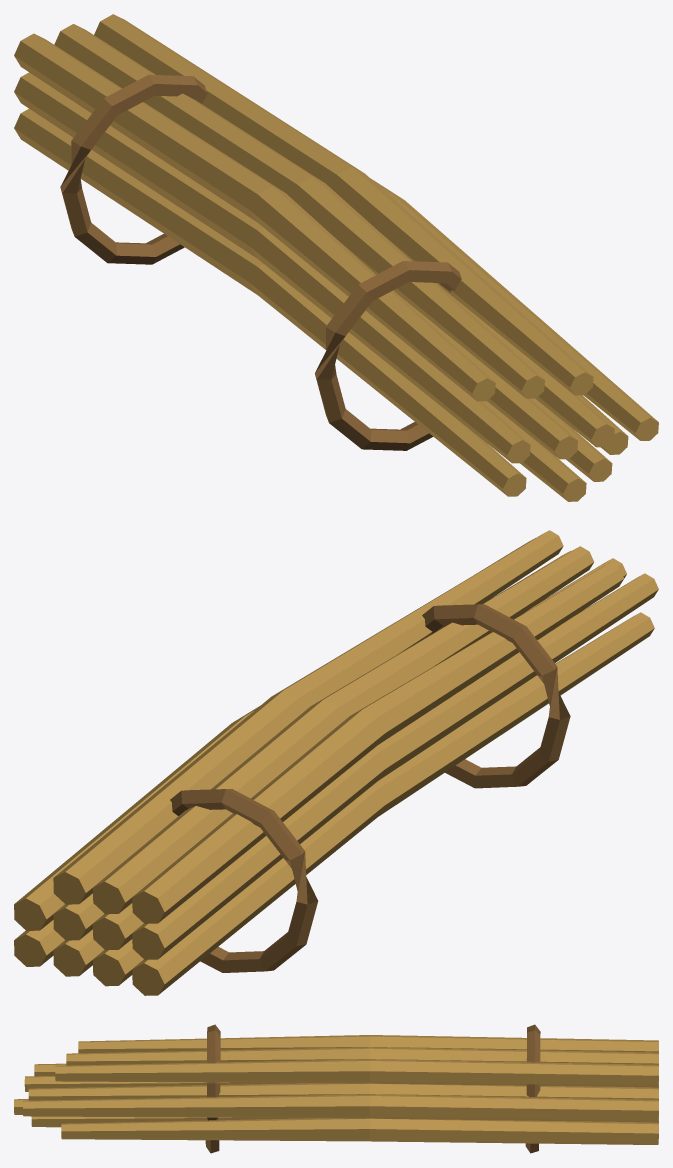
Rendered from reed-bundle.glb.
The picture shows the model from 3 angles, top to bottom: view 1: azimuth 30°, elevation 25°; view 2: azimuth 150°, elevation 25°; view 3: azimuth 270°, elevation 25°; orthographic projection. The views are drawn at different scales.
Parts seen in each view (by area): view 1: reed bundle; view 2: reed bundle; view 3: reed bundle.
Part boxes in pixels (x1,y1,x2,y2): reed bundle: [14, 14, 658, 501]; reed bundle: [14, 530, 658, 995]; reed bundle: [14, 1024, 658, 1153].
Bounding box in the file's own units: 0.2972 × 0.2477 × 1.23.
